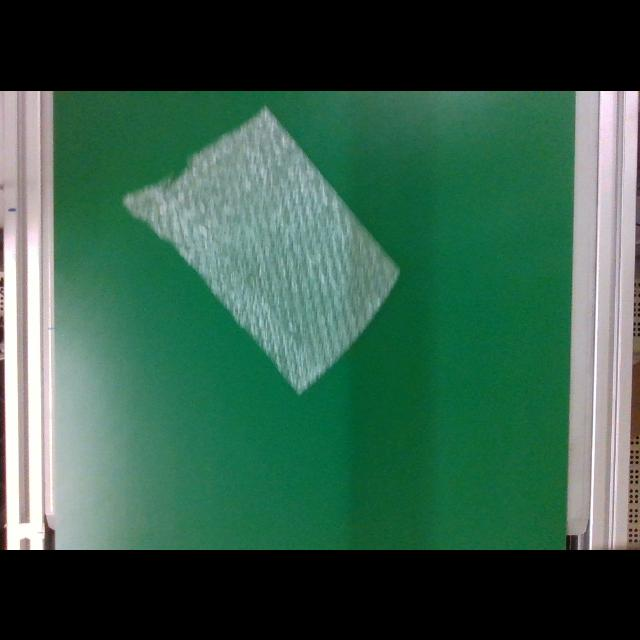scrap_plastic: (117, 102, 401, 398)
